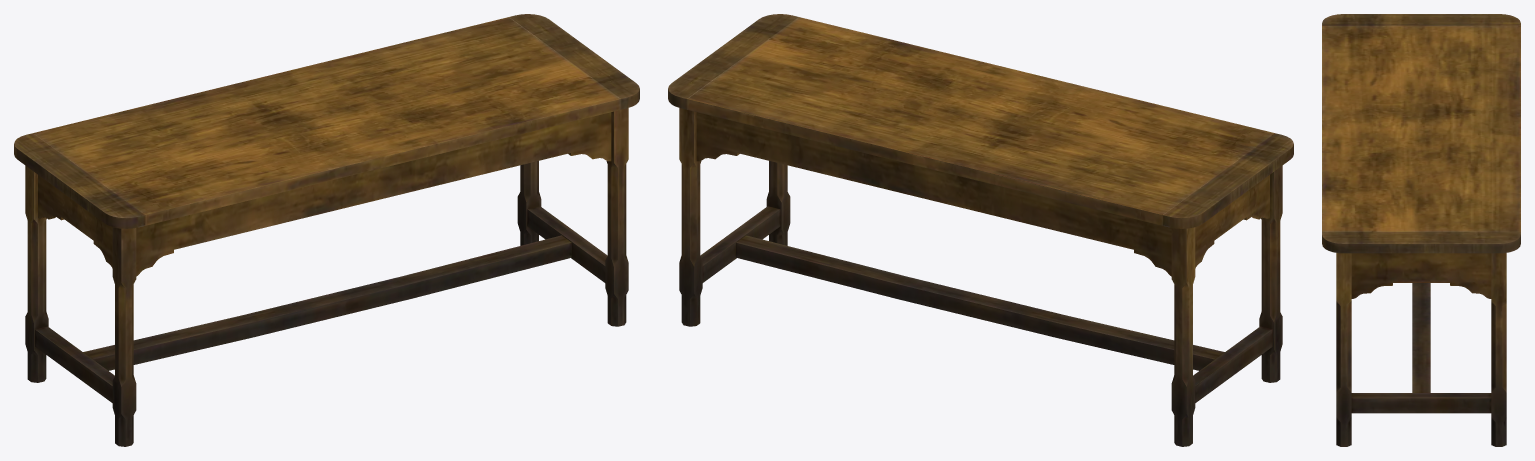
The model's file is zubehoer.glb.
The picture shows the model from 3 angles, left to right: view 1: azimuth 30°, elevation 25°; view 2: azimuth 150°, elevation 25°; view 3: azimuth 270°, elevation 25°; orthographic projection. The views are drawn at different scales.
Visible parts, largest first — view 1: WoodenTable_01; view 2: WoodenTable_01; view 3: WoodenTable_01.
Boxes of the visible parts, x1,y1,x2,y2 form: WoodenTable_01: (14,14,639,446); WoodenTable_01: (668,14,1293,446); WoodenTable_01: (1322,14,1520,446).
Size of the model in its own units: 1.8 by 0.76 by 0.6571.
1 material, 1 textured.
